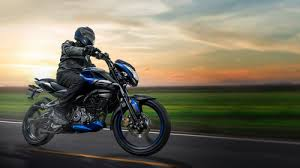helmet: (77, 25, 95, 50)
